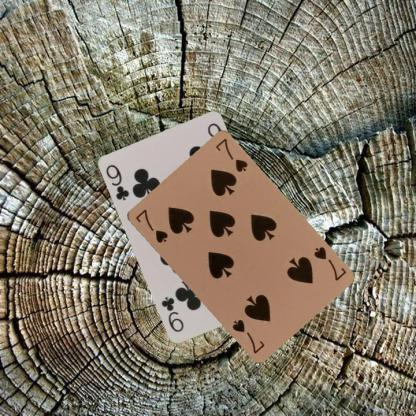7s: (310, 244, 348, 282), (132, 206, 169, 244)
9c: (104, 162, 131, 202)
